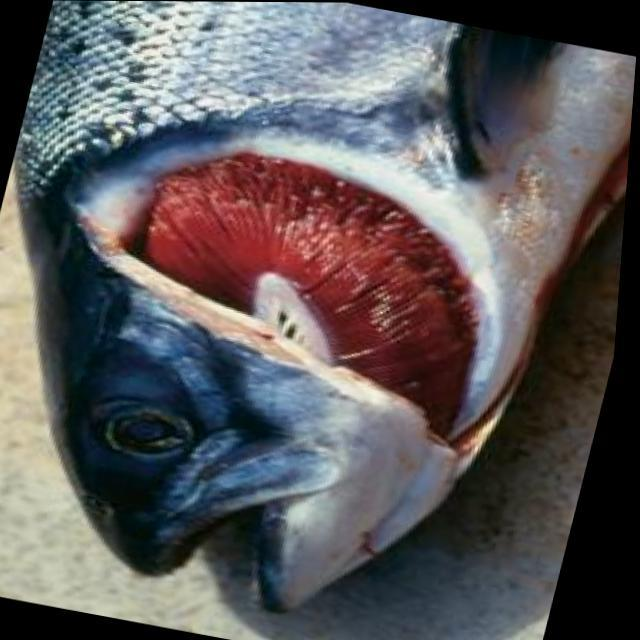Gill Disease: (24, 94, 631, 558)
